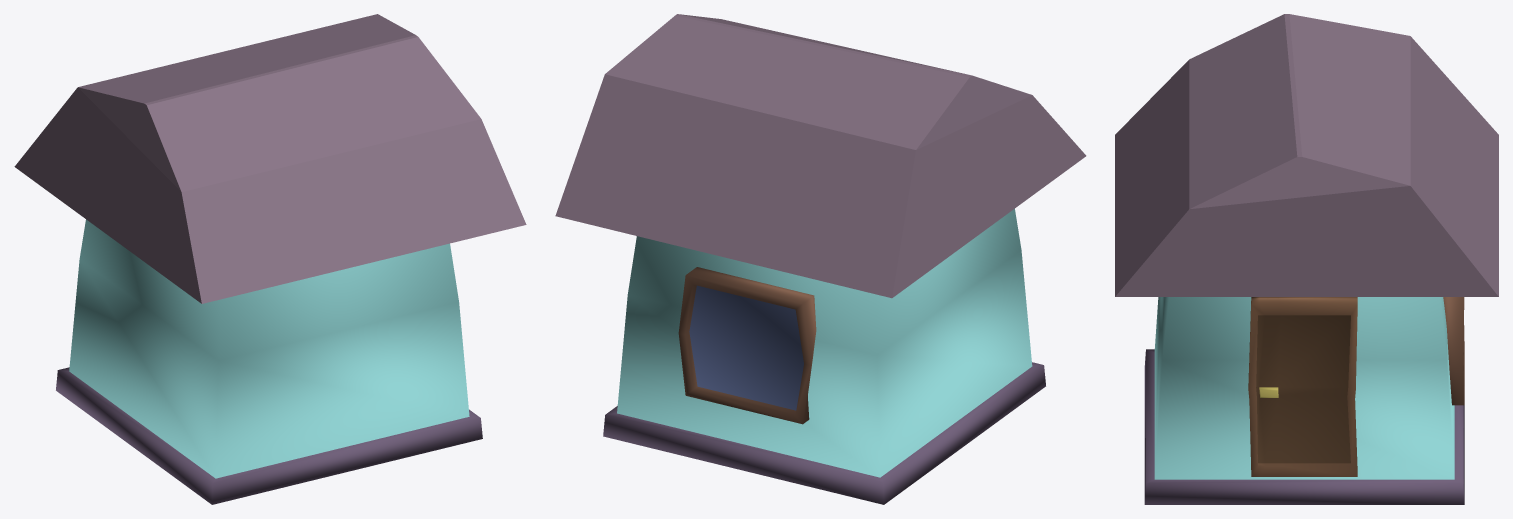
Rendered from BlueHouse.fbx.
3 renders of one model, left to right at view 1: azimuth 30°, elevation 25°; view 2: azimuth 150°, elevation 25°; view 3: azimuth 270°, elevation 25°, orthographic. The views are drawn at different scales.
Visible parts, largest first — view 1: Cube.008, Cube.009; view 2: Cube.008, Cube.009, Cube.007; view 3: Cube.008, Cube.009, Cube.006, Cube.007.
Boxes of the visible parts, x1,y1,x2,y2 form: Cube.008: (14,14,526,303); Cube.009: (56,219,482,504); Cube.008: (555,14,1086,298); Cube.009: (603,208,1045,504); Cube.007: (678,267,816,424); Cube.008: (1115,14,1498,296); Cube.009: (1144,297,1464,504); Cube.006: (1248,297,1357,476); Cube.007: (1443,297,1464,405).
Bounding box in the file's own units: 721 × 741 × 721.
